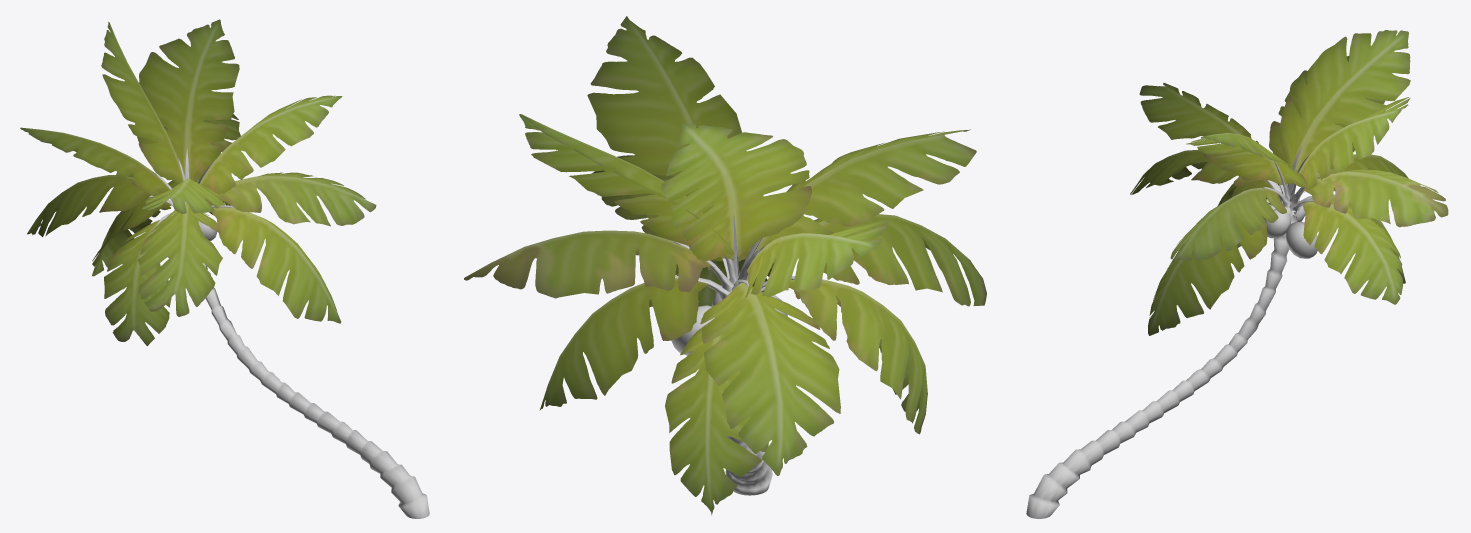
File: palm4_lod0.fbx
3 renders of one model, left to right at view 1: azimuth 30°, elevation 25°; view 2: azimuth 150°, elevation 25°; view 3: azimuth 270°, elevation 25°, orthographic. The views are drawn at different scales.
Parts seen in each view (by area): view 1: Tree_2_Tree_2Mat_0.002; view 2: Tree_2_Tree_2Mat_0.002; view 3: Tree_2_Tree_2Mat_0.002.
Boxes of the visible parts, x1,y1,x2,y2 form: Tree_2_Tree_2Mat_0.002: [20, 19, 429, 518]; Tree_2_Tree_2Mat_0.002: [464, 16, 986, 515]; Tree_2_Tree_2Mat_0.002: [1026, 30, 1448, 518].
Bounding box in the file's own units: 385 × 542 × 505.
